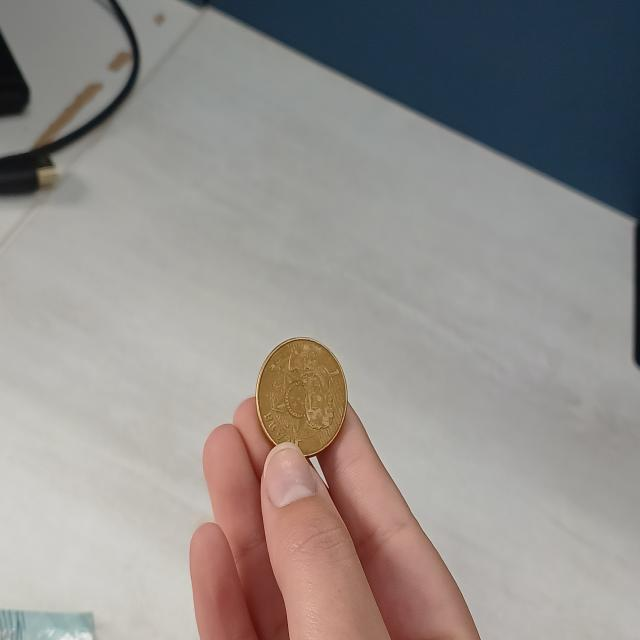25 cents: (248, 334, 353, 456)
